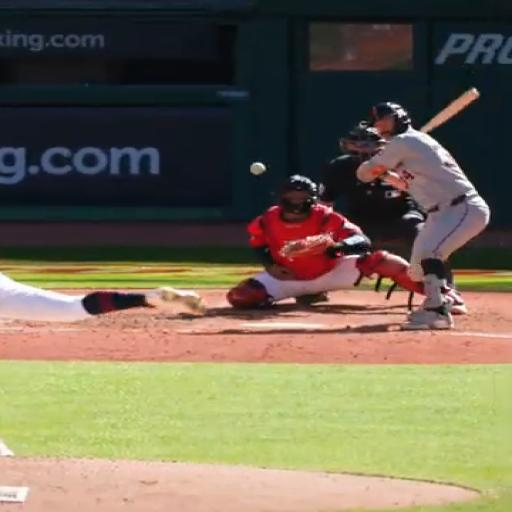bat: (420, 88, 479, 133)
